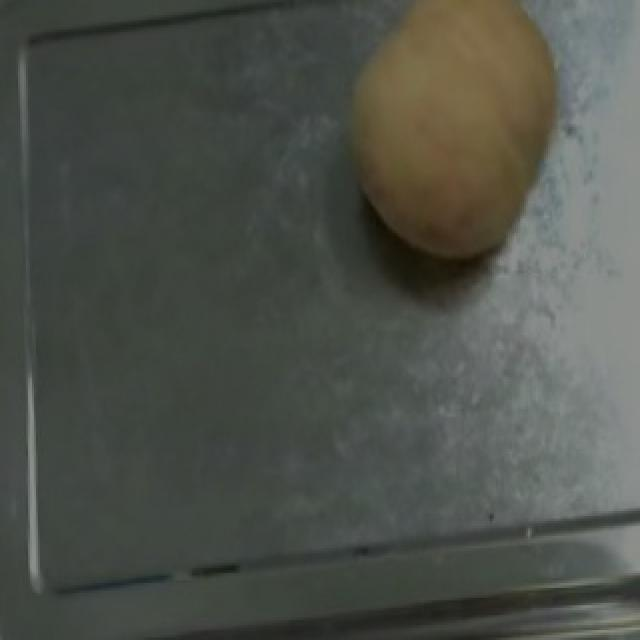Fruit: (316, 0, 588, 285)
